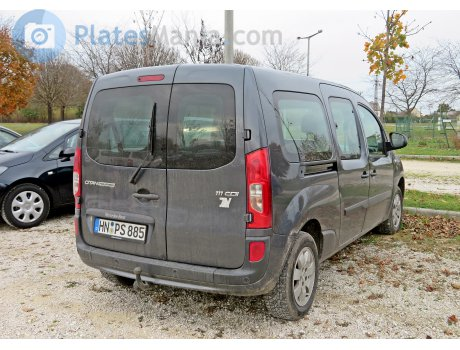License Plates: (97, 217, 147, 239)
